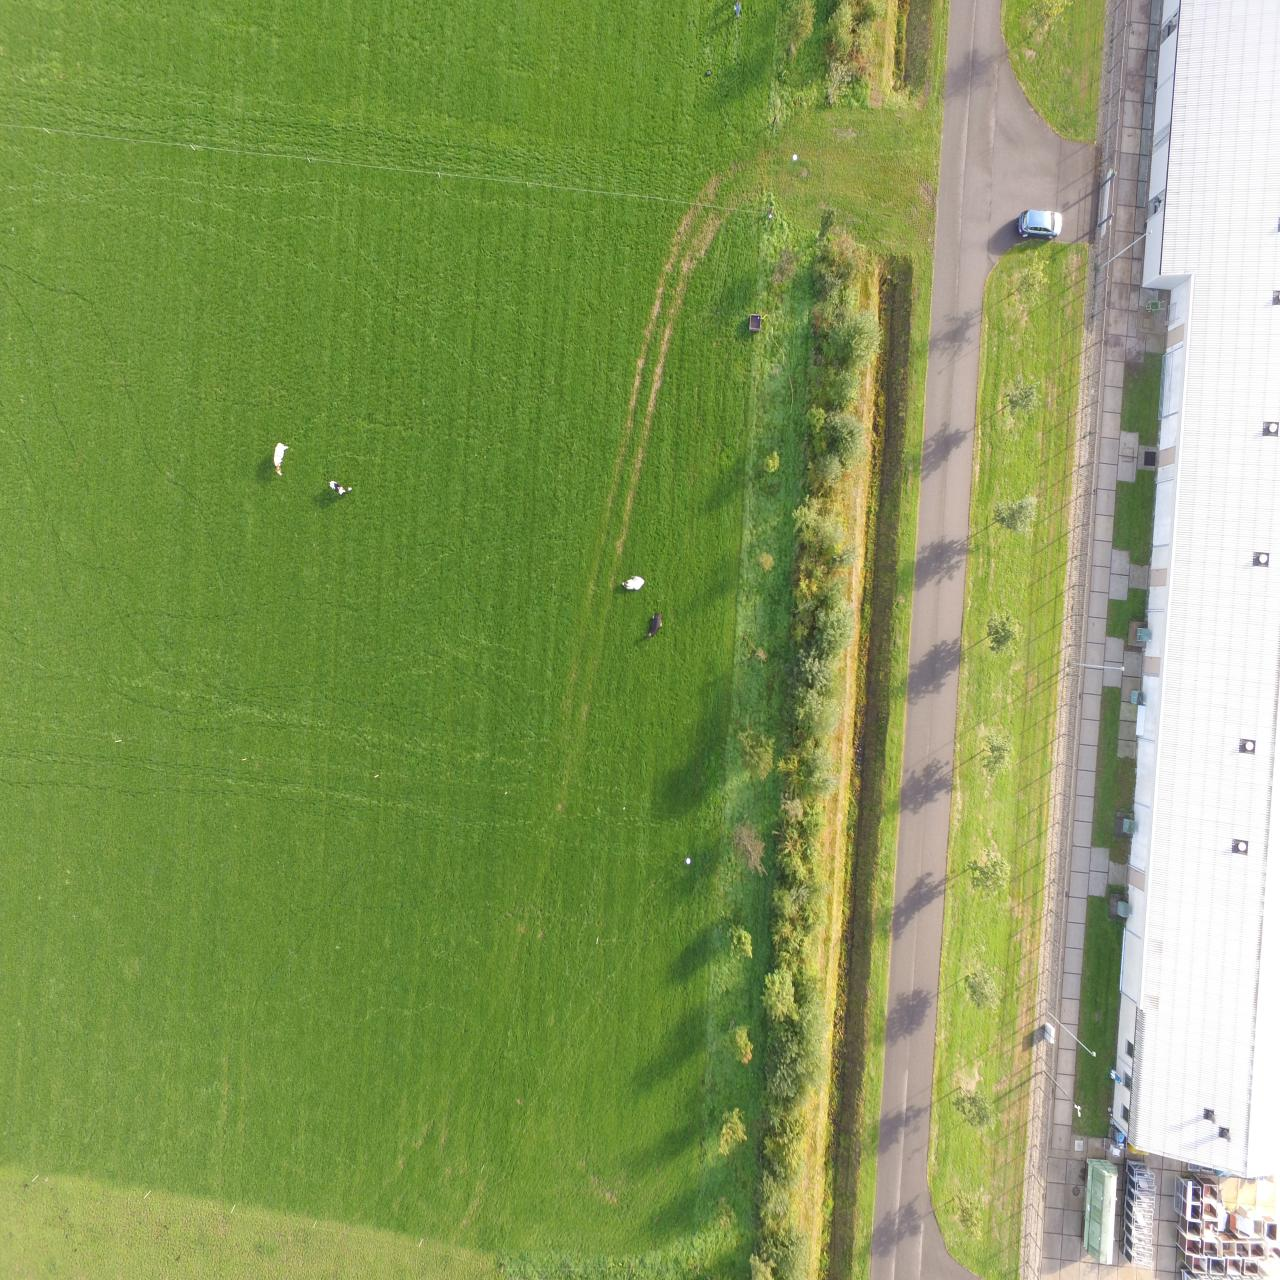cow: (324, 478, 352, 498), (274, 438, 288, 477), (646, 610, 662, 638), (621, 574, 645, 590)
